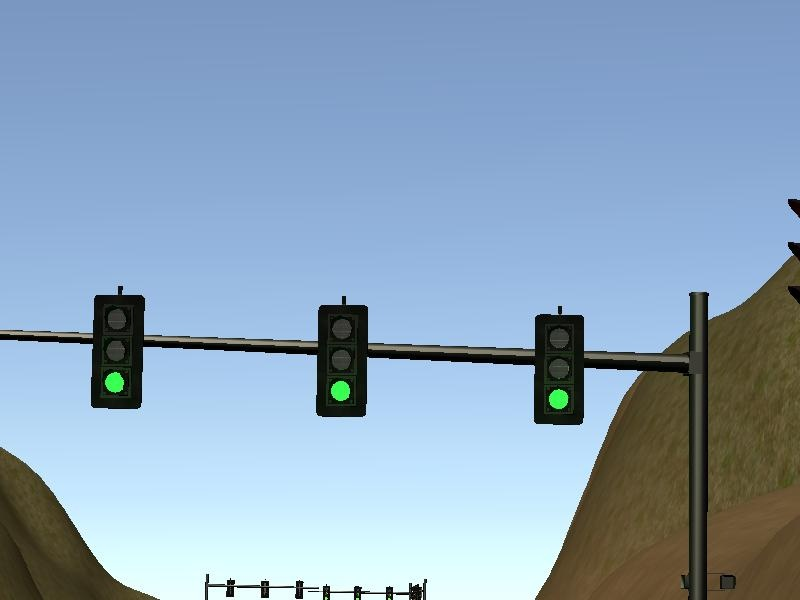green: (533, 311, 584, 426), (92, 296, 142, 408), (315, 308, 366, 415)
